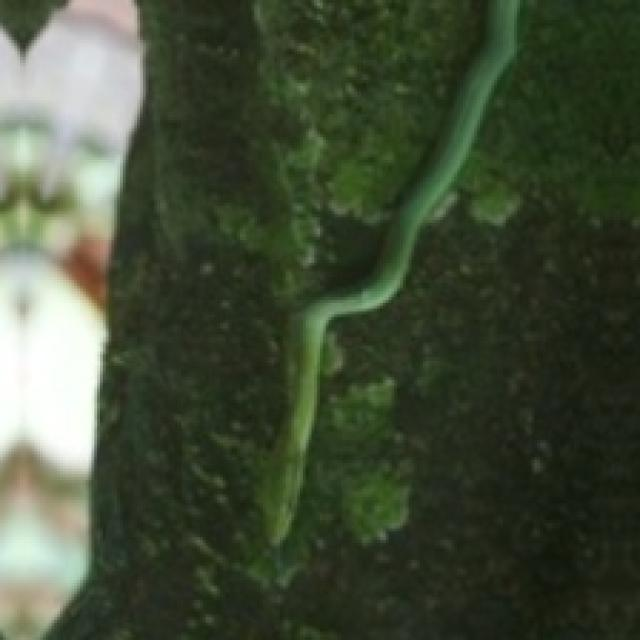red-tailed green ratsnake: (263, 0, 517, 543)
